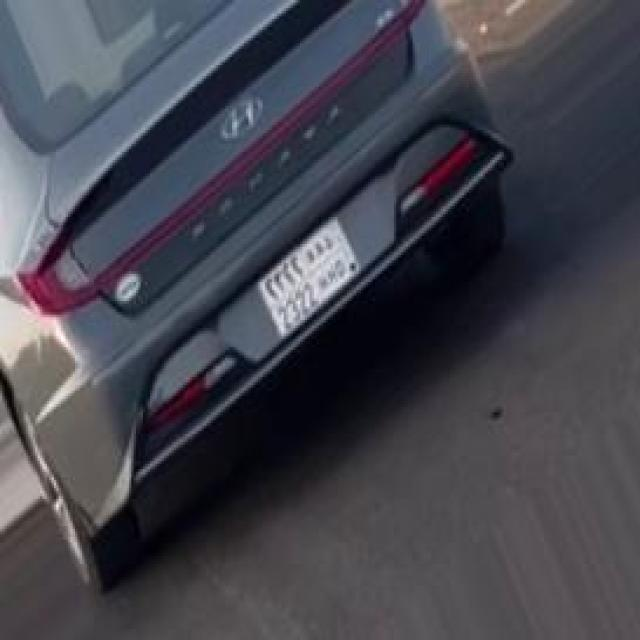Car-plate: (247, 204, 372, 343)
